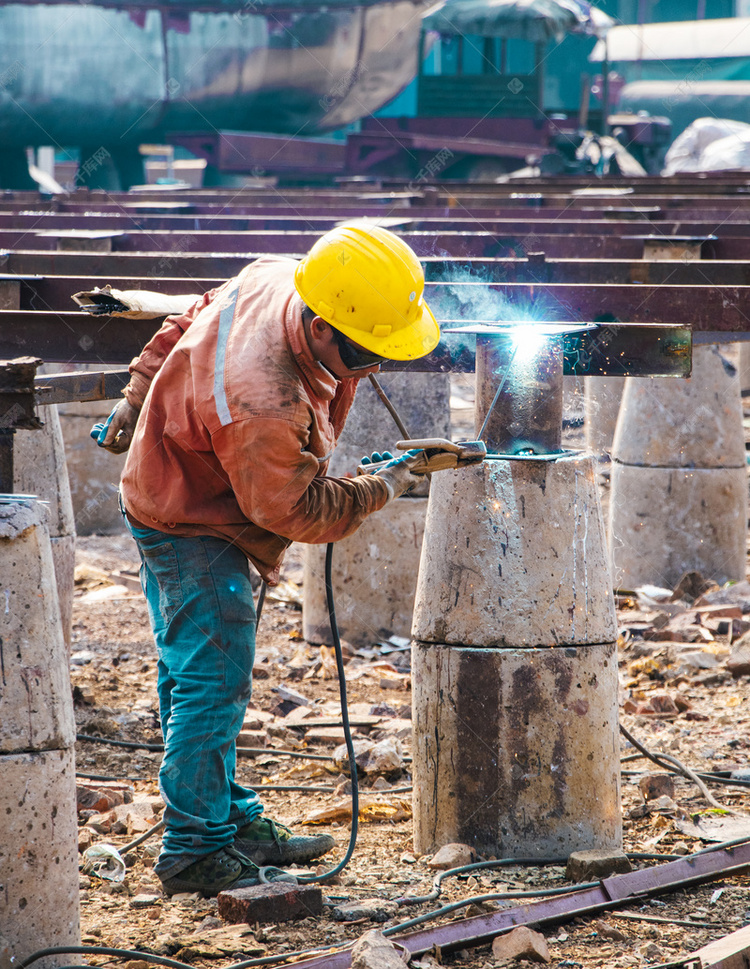safetyhat: (38, 179, 463, 804)
